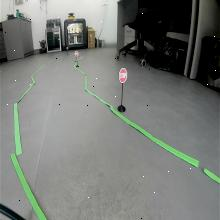stop: (118, 67, 128, 84)
